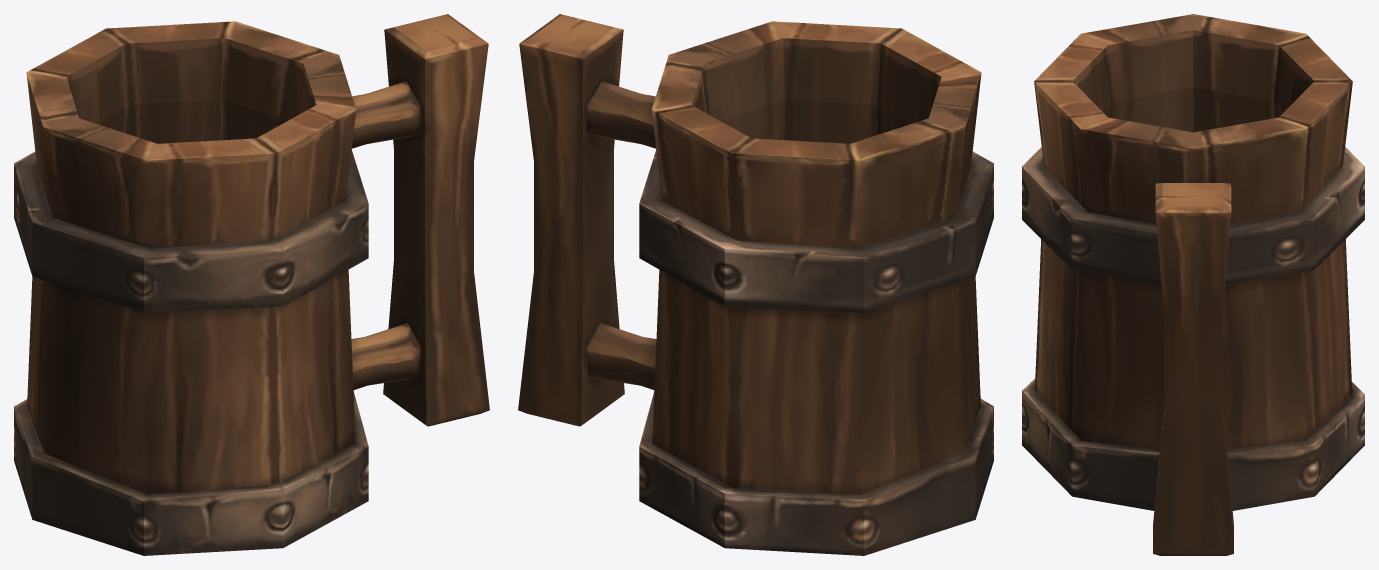
Rendered from 76_beer.FBX.
The picture shows the model from 3 angles, left to right: view 1: azimuth 30°, elevation 25°; view 2: azimuth 150°, elevation 25°; view 3: azimuth 270°, elevation 25°; orthographic projection. The views are drawn at different scales.
Parts seen in each view (by area): view 1: Object032; view 2: Object032; view 3: Object032.
Boxes of the visible parts, <box> form: Object032: <box>14,14,489,555</box>; Object032: <box>518,14,993,555</box>; Object032: <box>1022,14,1364,555</box>.
Size of the model in its own units: 45.59 by 38.96 by 33.24.
